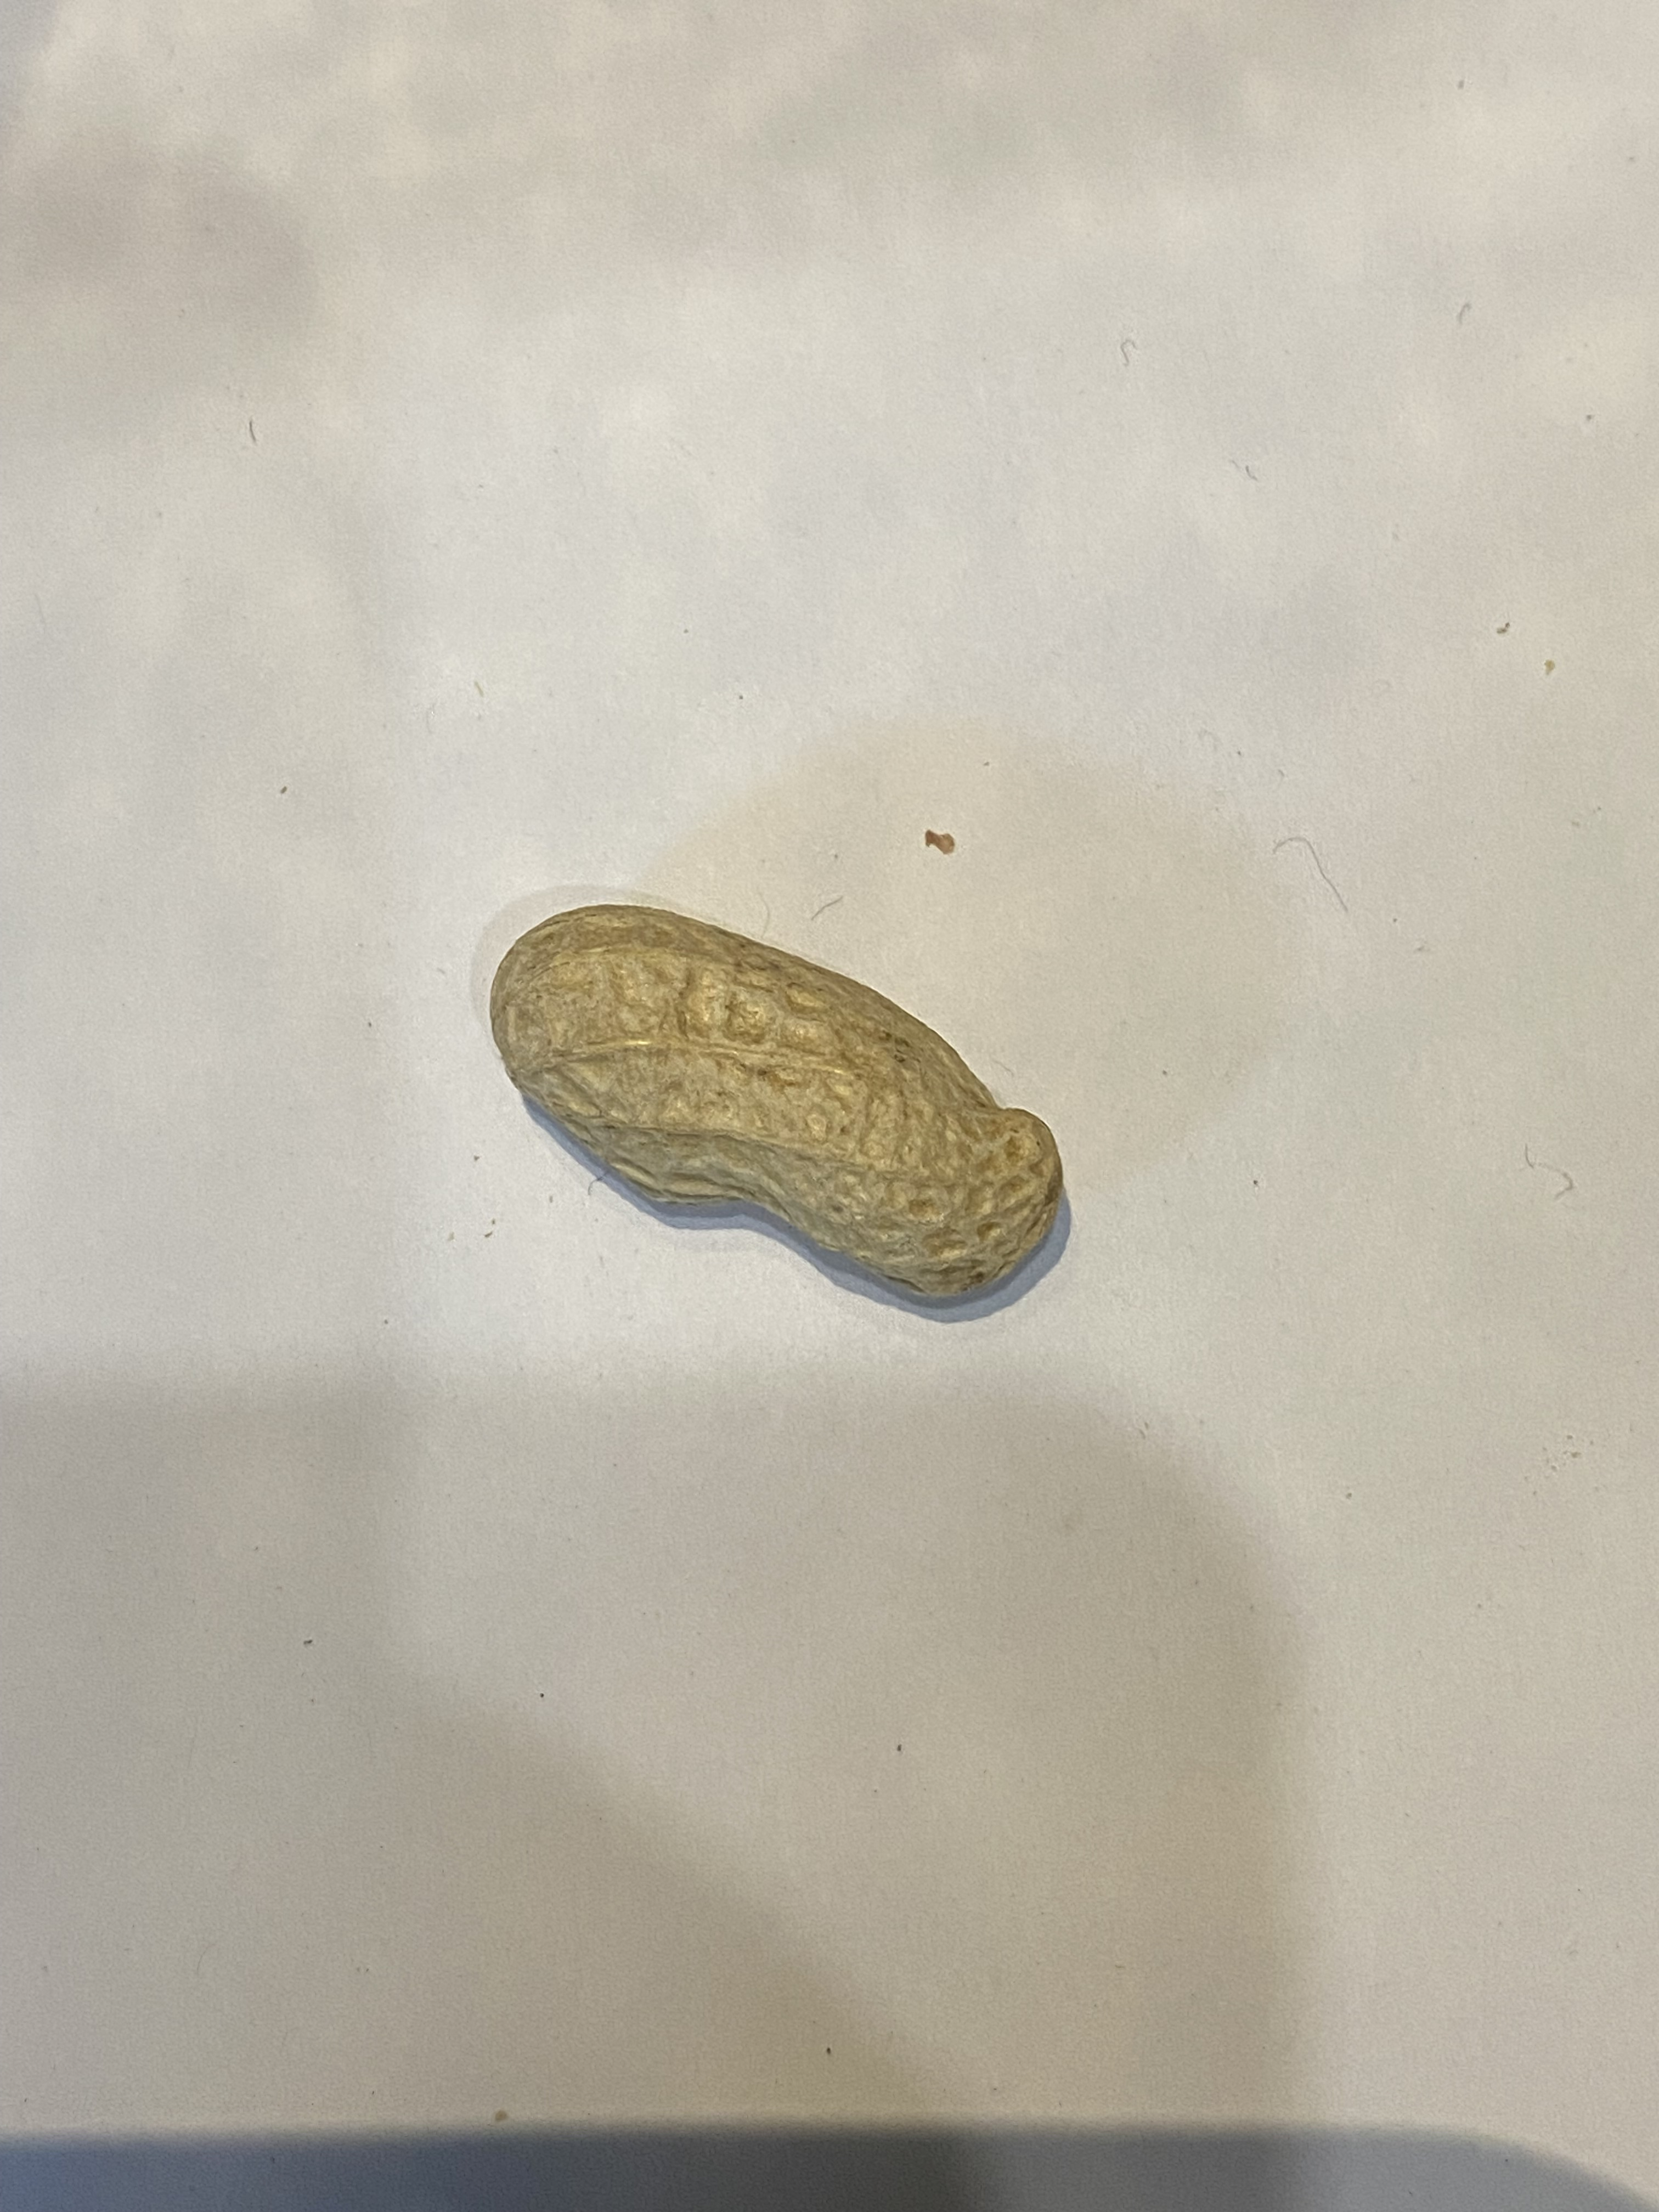kacang2: (467, 890, 1068, 1308)
